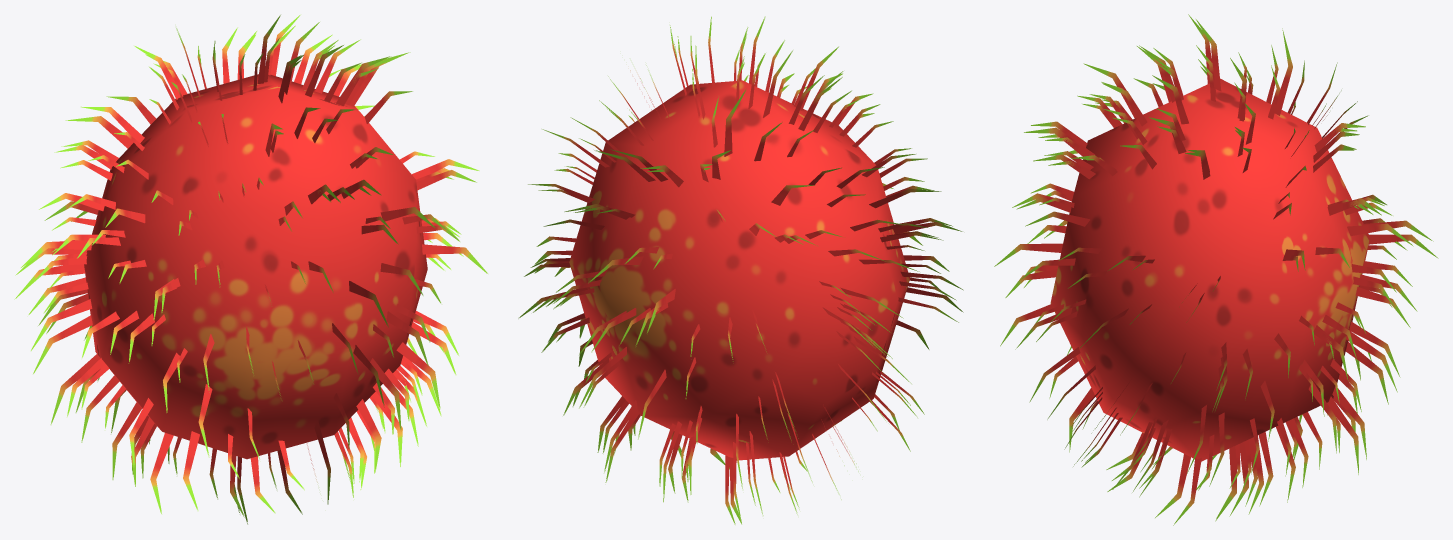
The model's file is rambutan.fbx.
3 views of the same model, side by side, from view 1: azimuth 30°, elevation 25°; view 2: azimuth 150°, elevation 25°; view 3: azimuth 270°, elevation 25° (orthographic). The views are drawn at different scales.
Parts seen in each view (by area): view 1: rambutan; view 2: rambutan; view 3: rambutan.
Part boxes in pixels (x1,y1,x2,y2): rambutan: (14, 15, 487, 524); rambutan: (518, 16, 963, 524); rambutan: (994, 14, 1438, 525).
Size of the model in its own units: 1.49 by 1.71 by 1.42.
